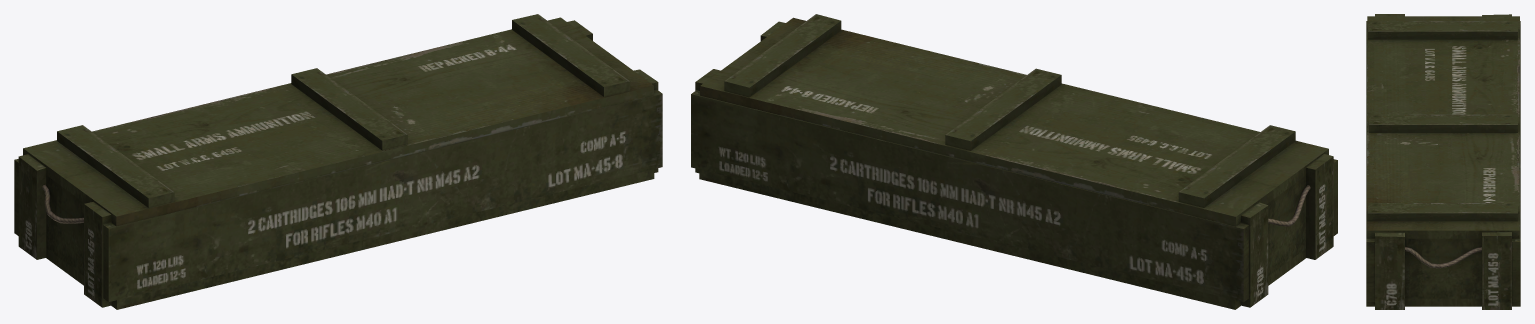
File: military_supply_crate.glb
3 views of the same model, side by side, from view 1: azimuth 30°, elevation 25°; view 2: azimuth 150°, elevation 25°; view 3: azimuth 270°, elevation 25° (orthographic). The views are drawn at different scales.
Visible parts, largest first — view 1: supply_crate_0; view 2: supply_crate_0; view 3: supply_crate_0.
Part boxes in pixels (<box>): supply_crate_0: <box>14,14,662,309</box>; supply_crate_0: <box>691,14,1337,309</box>; supply_crate_0: <box>1366,14,1520,309</box>.
Size of the model in its own units: 0.6325 by 0.1093 by 0.1822.
Materials: 1 (1 with a texture image).
